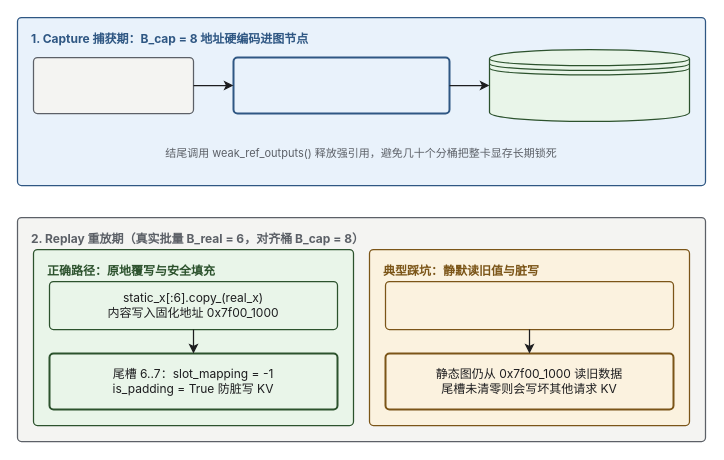
This 724x460 diagram has some shape labels left out. Here are the shapes that lost their labels. From the top down, the centre of each, then its label:
At (x=113, y=85): "static_x 静态输入槽 固定指针 0x7f00_1000".
At (x=341, y=85): "cudaGraph_t 静态 DAG 固化 Kernel 指针与参数".
At (x=589, y=85): "global_graph_pool 桶间互斥复用中间页".
At (x=529, y=305): "直接重赋值 x = new_tensor 新地址 0x7f00_9999 被图忽略".
